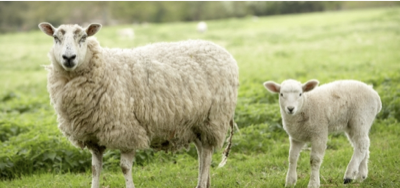koyun: (38, 21, 239, 187), (262, 80, 383, 186)
